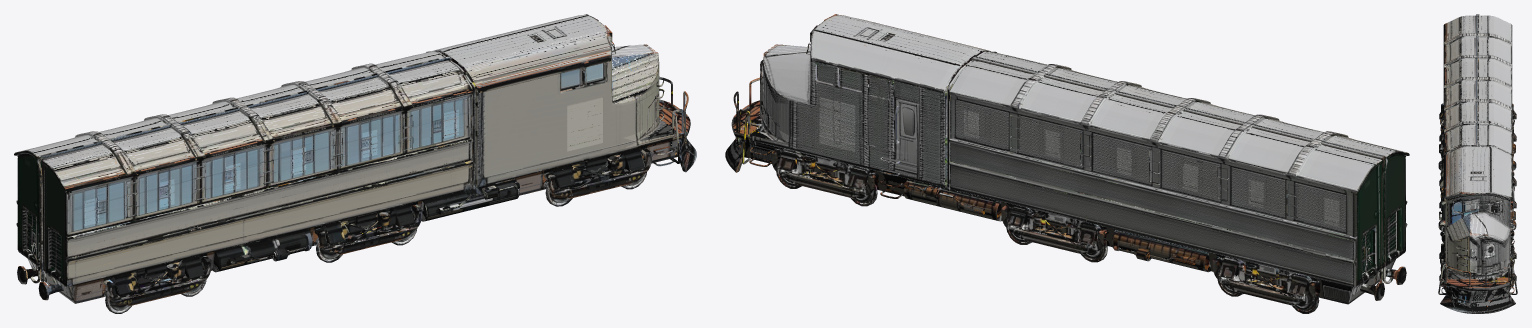
File: textured_simple.glb
3 views of the same model, side by side, from view 1: azimuth 30°, elevation 25°; view 2: azimuth 150°, elevation 25°; view 3: azimuth 270°, elevation 25° (orthographic). The views are drawn at different scales.
Visible parts, largest first — view 1: Node; view 2: Node; view 3: Node.
Part boxes in pixels (<box>): Node: <box>14,14,696,313</box>; Node: <box>725,14,1409,313</box>; Node: <box>1438,14,1517,313</box>.
Bounding box in the file's own units: 2 × 0.449 × 0.3223.
Materials: 1 (1 with a texture image).
